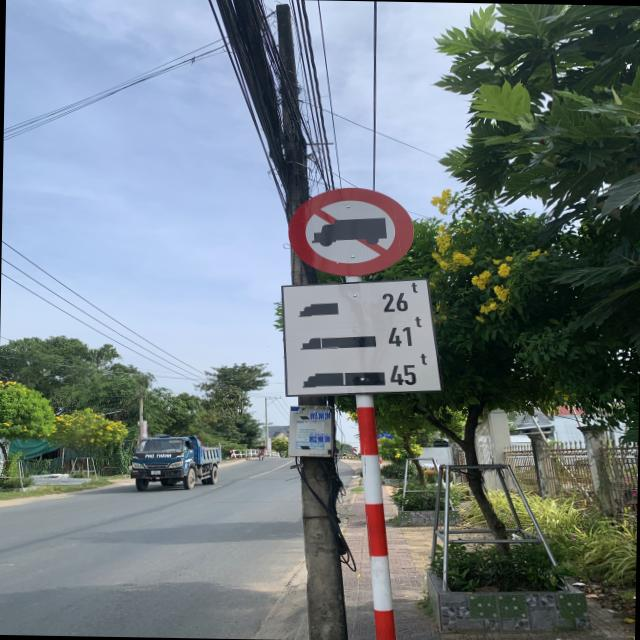Cam_Xe_Tai: (288, 185, 414, 278)
